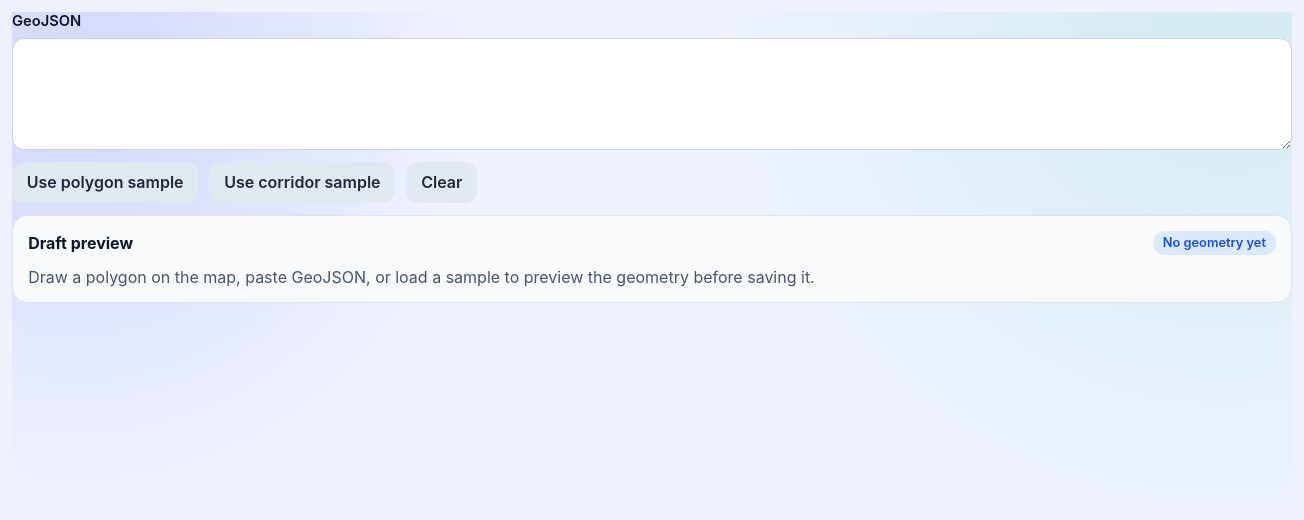
Scenario: GeometryJsonField › loads mission samples and clears the field
Click the button "Use polygon sample" at (105, 182), box [12, 162, 198, 203]
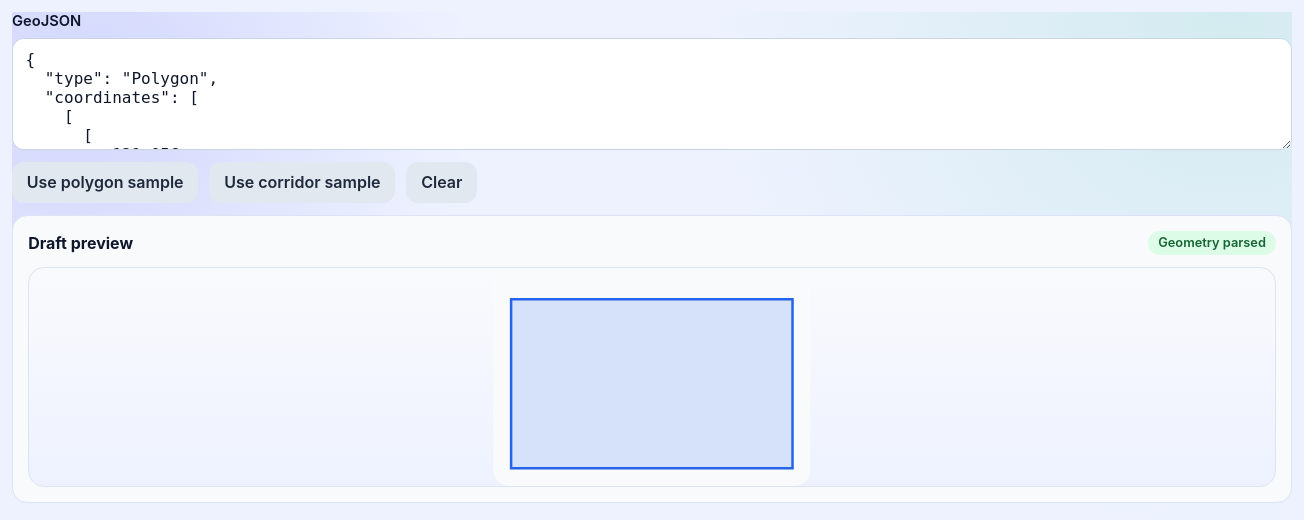
Now the text "Geometry parsed" is shown, box [1148, 231, 1276, 255]
Click the button "Clear" at (442, 182), box [406, 162, 477, 203]
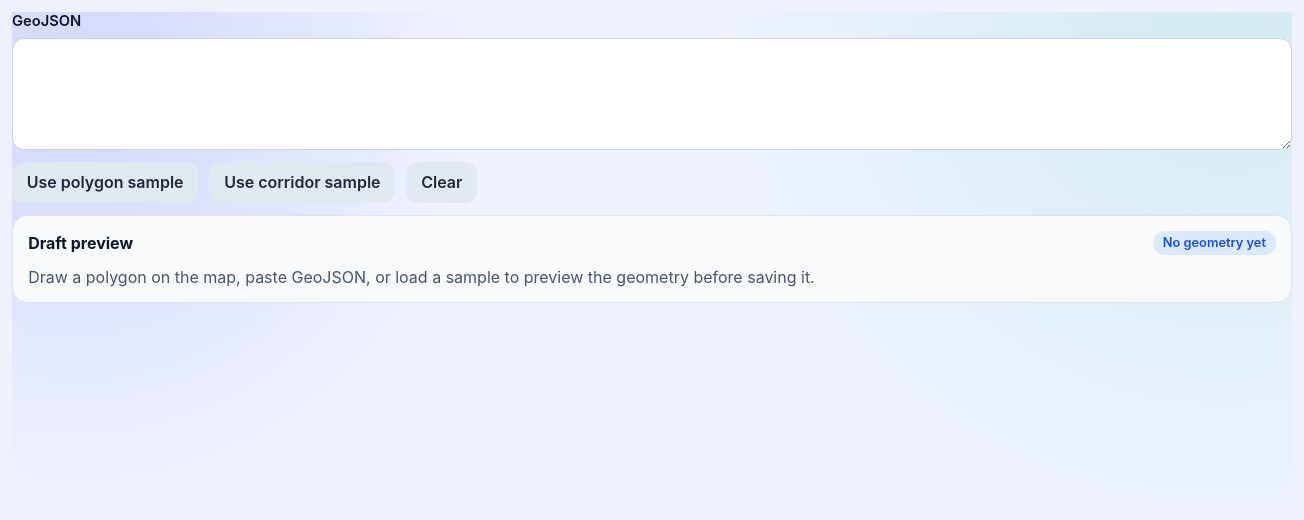
Now the text box labelled "GeoJSON" is empty, box [12, 38, 1292, 150]
